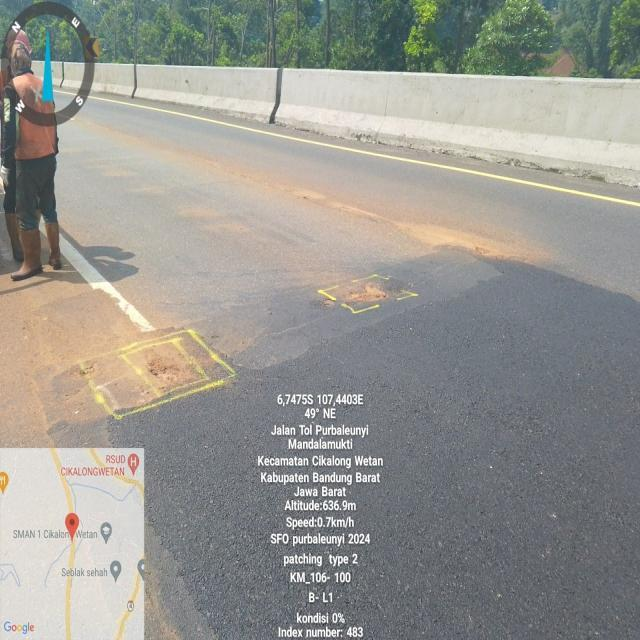Buraco: (341, 280, 393, 306), (142, 356, 183, 386), (68, 359, 100, 378), (471, 242, 494, 258)
